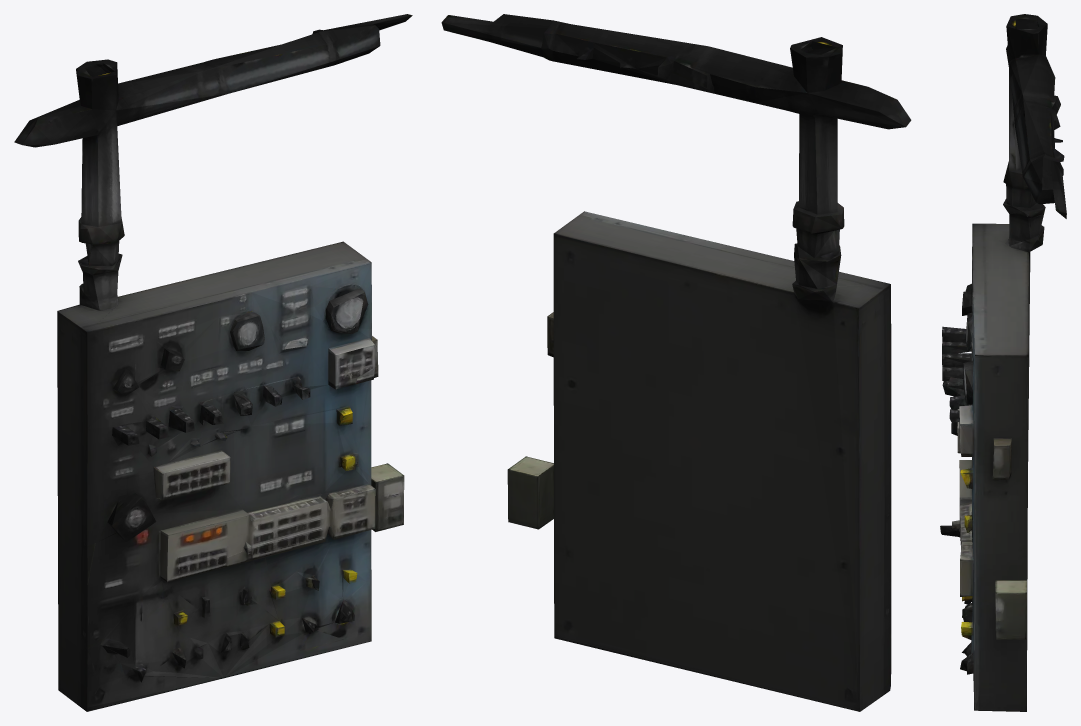
Rendered from dials-switches-wall.glb.
The picture shows the model from 3 angles, left to right: view 1: azimuth 30°, elevation 25°; view 2: azimuth 150°, elevation 25°; view 3: azimuth 270°, elevation 25°; orthographic projection. The views are drawn at different scales.
Parts seen in each view (by area): view 1: geometry_0; view 2: geometry_0; view 3: geometry_0.
Boxes of the visible parts, x1=… form: geometry_0: x1=14, y1=14, x2=412, y2=711; geometry_0: x1=441, y1=14, x2=911, y2=711; geometry_0: x1=940, y1=14, x2=1066, y2=711.
Bounding box in the file's own units: 0.7077 × 1 × 0.1996.
1 material, 1 textured.
